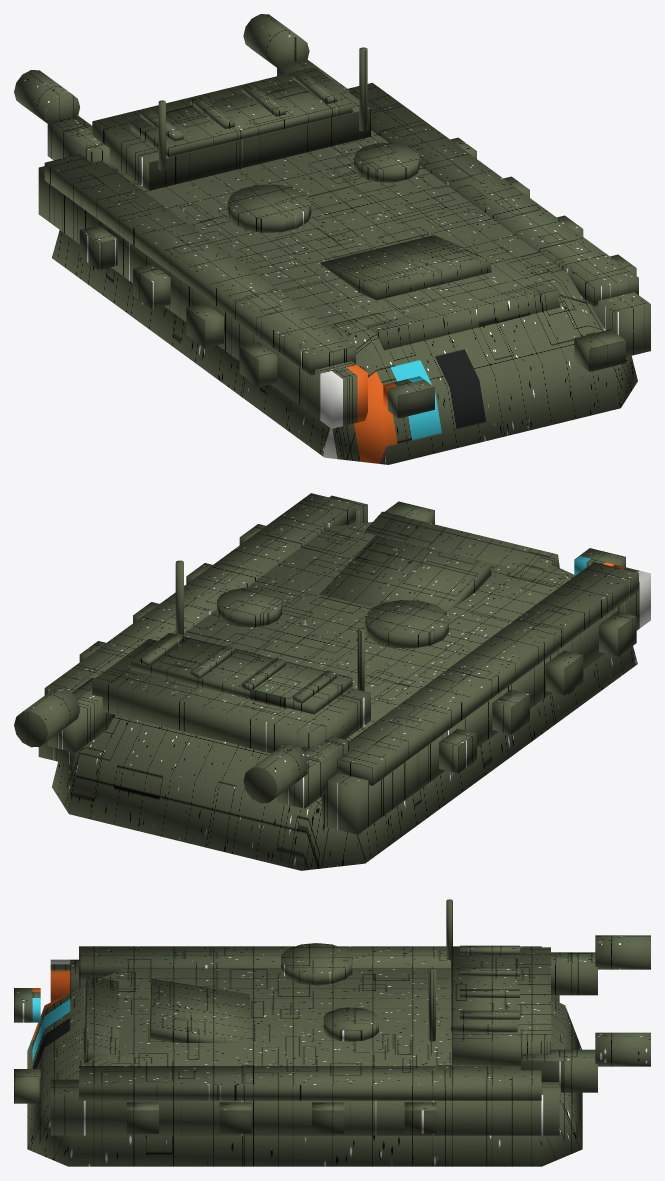
The model's file is medium_tank_hull.obj.
3 renders of one model, top to bottom at view 1: azimuth 30°, elevation 25°; view 2: azimuth 150°, elevation 25°; view 3: azimuth 270°, elevation 25°, orthographic. The views are drawn at different scales.
Parts seen in each view (by area): view 1: HullArmor; view 2: HullArmor; view 3: HullArmor.
Part boxes in pixels (bbox=[...]): HullArmor: bbox=[14, 14, 650, 464]; HullArmor: bbox=[14, 493, 650, 870]; HullArmor: bbox=[14, 899, 650, 1166].
Bounding box in the file's own units: 3.55 × 1.74 × 5.95.
